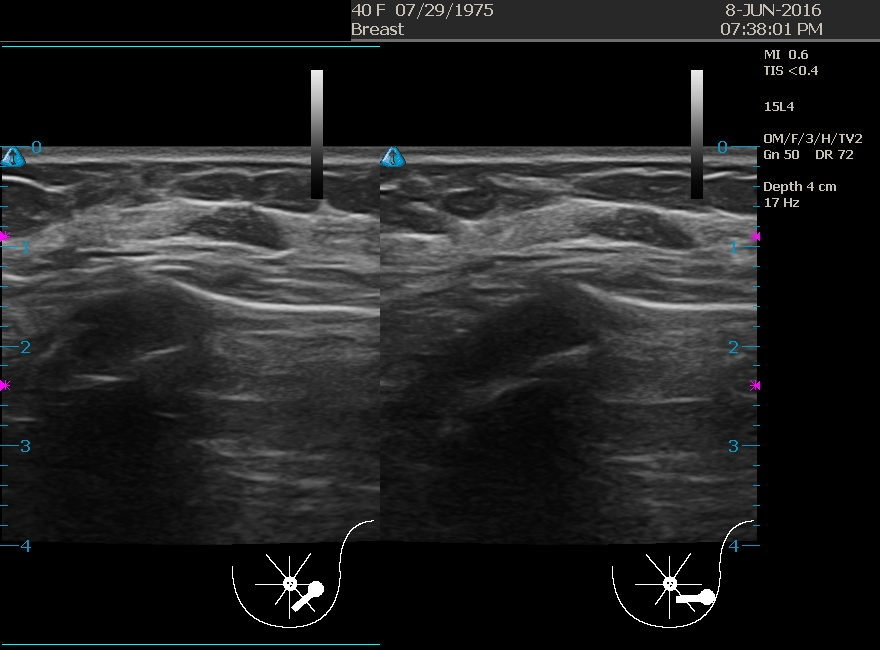BIRADS_2: (160, 201, 361, 401), (526, 202, 726, 402)
